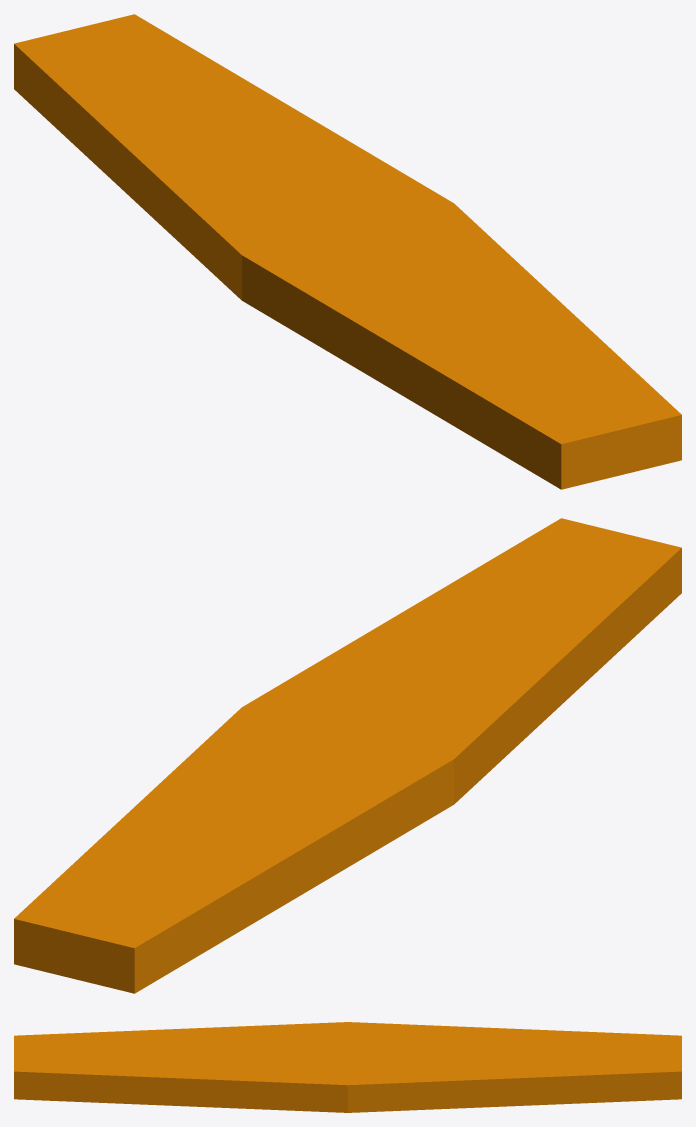
Rendered from corridor_sketched.fbx.
3 views of the same model, one above another, from view 1: azimuth 30°, elevation 25°; view 2: azimuth 150°, elevation 25°; view 3: azimuth 270°, elevation 25° (orthographic). The views are drawn at different scales.
Visible parts, largest first — view 1: PasilloDoble; view 2: PasilloDoble; view 3: PasilloDoble.
Part boxes in pixels (box(x1,y1,x2,y2)): PasilloDoble: box(14, 14, 681, 489); PasilloDoble: box(14, 518, 681, 993); PasilloDoble: box(14, 1022, 681, 1112).
Bounding box in the file's own units: 3.19 × 0.654 × 14.26.
